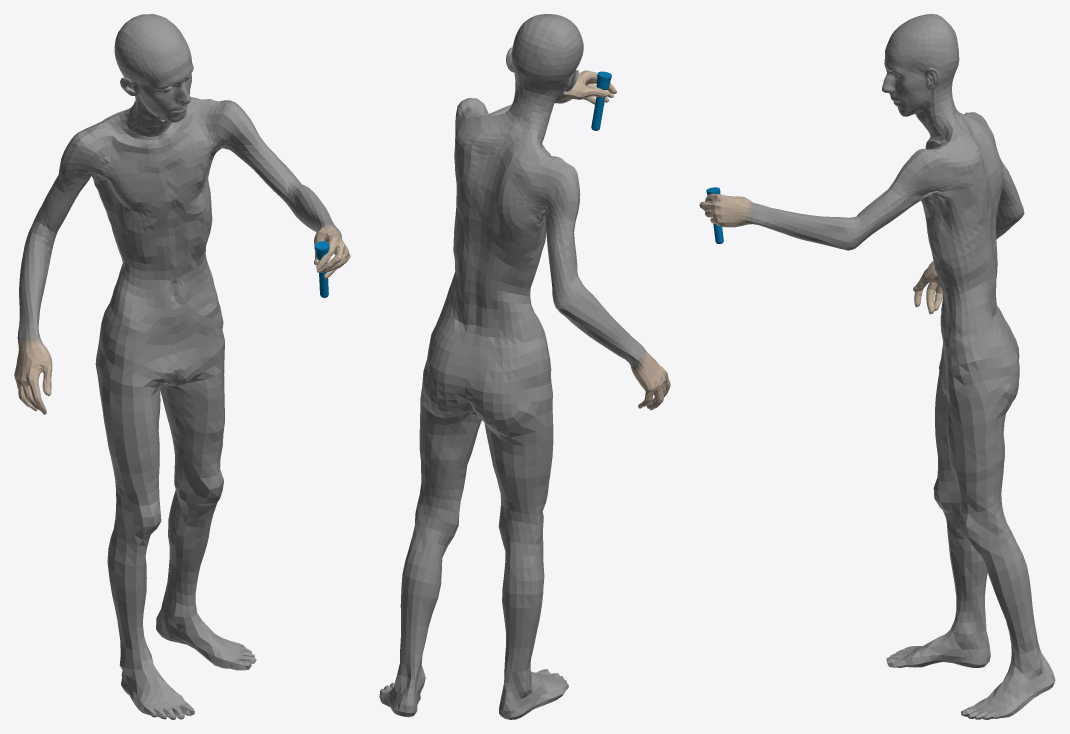
Rendered from offhand_flashlight_full.glb.
3 views of the same model, side by side, from view 1: azimuth 30°, elevation 25°; view 2: azimuth 150°, elevation 25°; view 3: azimuth 270°, elevation 25° (orthographic). The views are drawn at different scales.
Parts seen in each view (by area): view 1: offhand_flashlight_full.obj; view 2: offhand_flashlight_full.obj; view 3: offhand_flashlight_full.obj.
Part boxes in pixels (box(x1,y1,x2,y2)): offhand_flashlight_full.obj: box(14, 14, 350, 719); offhand_flashlight_full.obj: box(379, 14, 670, 719); offhand_flashlight_full.obj: box(699, 14, 1055, 719).
Bounding box in the file's own units: 0.6775 × 1.75 × 0.8743.
